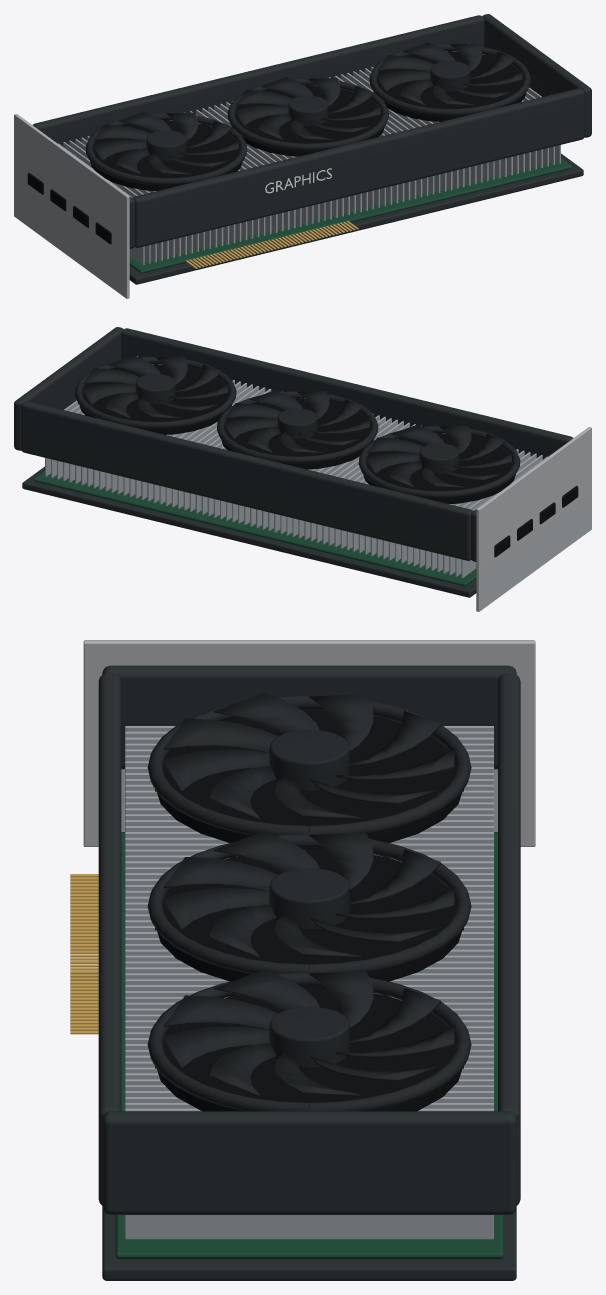
File: gpu.f8f6b8f5401b.glb
3 views of the same model, one above another, from view 1: azimuth 30°, elevation 25°; view 2: azimuth 150°, elevation 25°; view 3: azimuth 270°, elevation 25° (orthographic). The views are drawn at different scales.
Parts seen in each view (by area): view 1: GRAPHICS_CARD / Charcoal powder coated steel, GPU IO bracket, GRAPHICS_CARD / Satin aluminium, Fan rotor assembly.004 / Fine moulded ABS, Fan rotor assembly.003 / Fine moulded ABS, Fan rotor assembly.005 / Fine moulded ABS, GPU PCB, Fan shadow.003, Fan shadow.004, Fan shadow.005, GRAPHICS_CARD / Gold plated connector contacts, GRAPHICS_CARD / Dark cavity interior; view 2: GRAPHICS_CARD / Charcoal powder coated steel, GPU IO bracket, GRAPHICS_CARD / Satin aluminium, Fan rotor assembly.004 / Fine moulded ABS, Fan rotor assembly.003 / Fine moulded ABS, Fan rotor assembly.005 / Fine moulded ABS, GPU PCB, Fan shadow.003, Fan shadow.004, Fan shadow.005, GRAPHICS_CARD / Dark cavity interior; view 3: GRAPHICS_CARD / Charcoal powder coated steel, GRAPHICS_CARD / Satin aluminium, Fan rotor assembly.005 / Fine moulded ABS, Fan rotor assembly.003 / Fine moulded ABS, Fan rotor assembly.004 / Fine moulded ABS, GPU IO bracket, Fan shadow.003, Fan shadow.004, Fan shadow.005, GPU PCB, GRAPHICS_CARD / Gold plated connector contacts.
Part boxes in pixels (x1,y1,x2,y2): GRAPHICS_CARD / Charcoal powder coated steel: [33, 14, 591, 284]; GPU IO bracket: [14, 114, 129, 298]; GRAPHICS_CARD / Satin aluminium: [58, 43, 560, 265]; Fan rotor assembly.004 / Fine moulded ABS: [227, 77, 388, 150]; Fan rotor assembly.003 / Fine moulded ABS: [85, 111, 247, 185]; Fan rotor assembly.005 / Fine moulded ABS: [369, 42, 530, 115]; GPU PCB: [129, 158, 572, 273]; Fan shadow.003: [90, 120, 242, 190]; Fan shadow.004: [232, 85, 384, 156]; Fan shadow.005: [374, 51, 526, 121]; GRAPHICS_CARD / Gold plated connector contacts: [185, 221, 358, 268]; GRAPHICS_CARD / Dark cavity interior: [27, 172, 111, 244]; GRAPHICS_CARD / Charcoal powder coated steel: [14, 327, 572, 597]; GPU IO bracket: [476, 427, 591, 611]; GRAPHICS_CARD / Satin aluminium: [45, 356, 547, 578]; Fan rotor assembly.004 / Fine moulded ABS: [217, 390, 378, 463]; Fan rotor assembly.003 / Fine moulded ABS: [358, 424, 520, 498]; Fan rotor assembly.005 / Fine moulded ABS: [75, 355, 236, 428]; GPU PCB: [33, 471, 476, 586]; Fan shadow.003: [363, 433, 515, 503]; Fan shadow.004: [221, 398, 373, 469]; Fan shadow.005: [79, 364, 231, 434]; GRAPHICS_CARD / Dark cavity interior: [494, 485, 578, 557]; GRAPHICS_CARD / Charcoal powder coated steel: [98, 665, 520, 1280]; GRAPHICS_CARD / Satin aluminium: [125, 726, 493, 1239]; Fan rotor assembly.005 / Fine moulded ABS: [147, 969, 471, 1111]; Fan rotor assembly.003 / Fine moulded ABS: [147, 692, 471, 835]; Fan rotor assembly.004 / Fine moulded ABS: [147, 831, 471, 973]; GPU IO bracket: [83, 640, 535, 846]; Fan shadow.003: [156, 710, 462, 849]; Fan shadow.004: [157, 848, 462, 987]; Fan shadow.005: [156, 987, 462, 1111]; GPU PCB: [115, 833, 503, 1259]; GRAPHICS_CARD / Gold plated connector contacts: [70, 874, 98, 1034].
Size of the model in its own units: 0.29 by 0.06 by 0.1235.
